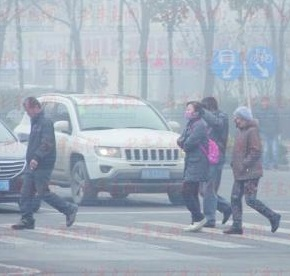person: (10, 98, 82, 230), (221, 105, 285, 234), (198, 97, 234, 230), (177, 99, 212, 232), (256, 97, 282, 171)
